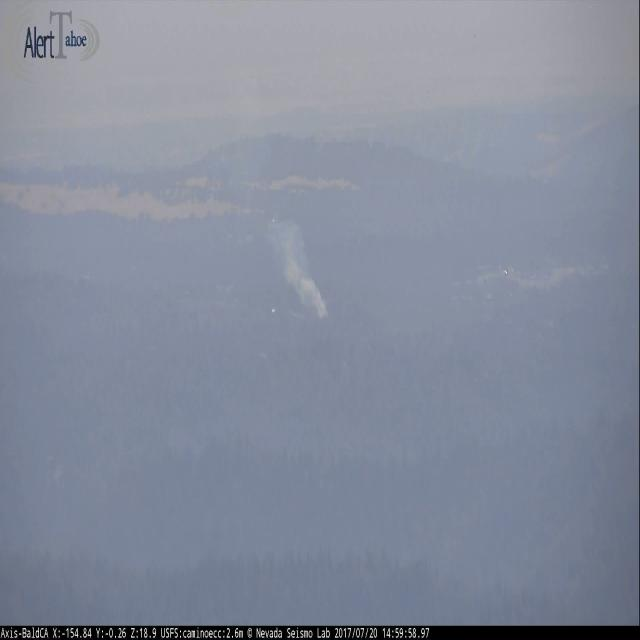smoke: (274, 222, 330, 315)
